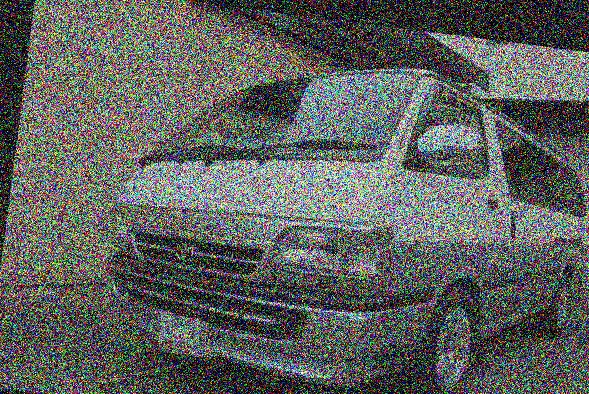van: (88, 31, 589, 394)
